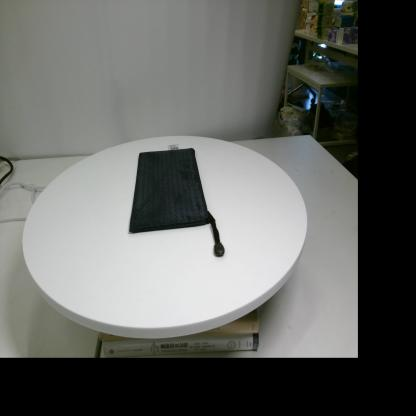Stationery: (129, 144, 225, 256)
